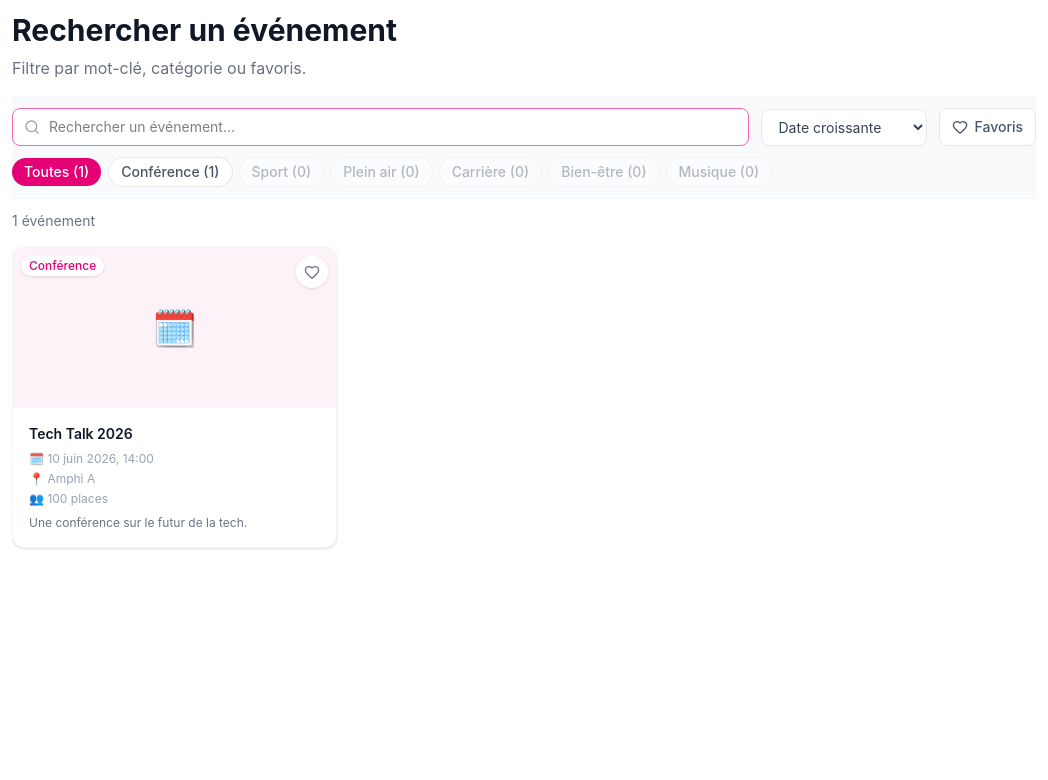
it: EventsPage › hides events not in favourites when the favourites filter is on
Expected: the heading "Tech Talk 2026" is shown, x1=29 y1=425 x2=133 y2=442
Click the button "Favoris" at [988, 127], box x1=940 y1=108 x2=1036 y2=146
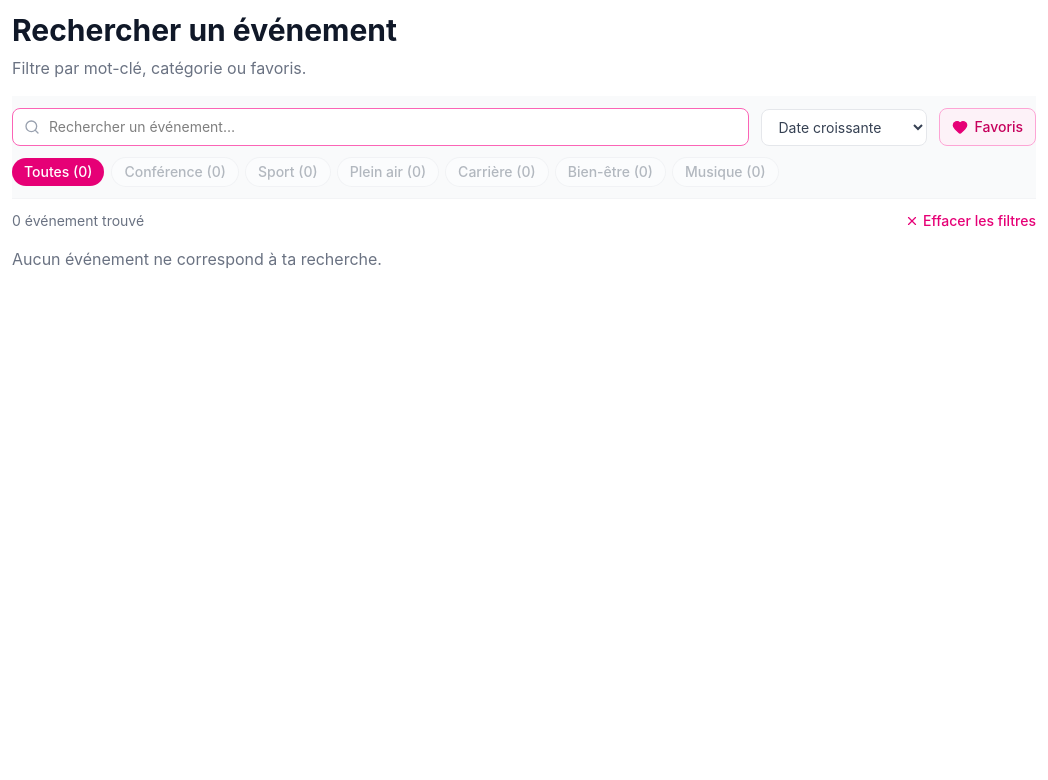
Expected: the link "Tech Talk 2026" is gone
